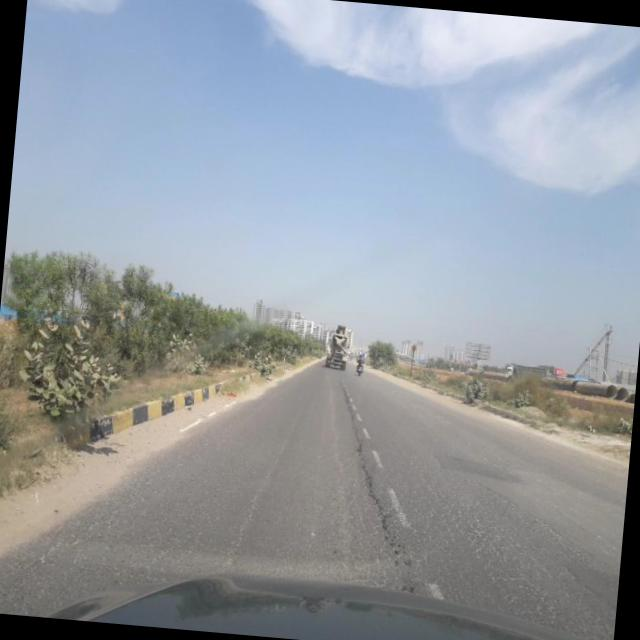crack: (143, 405, 630, 602)
